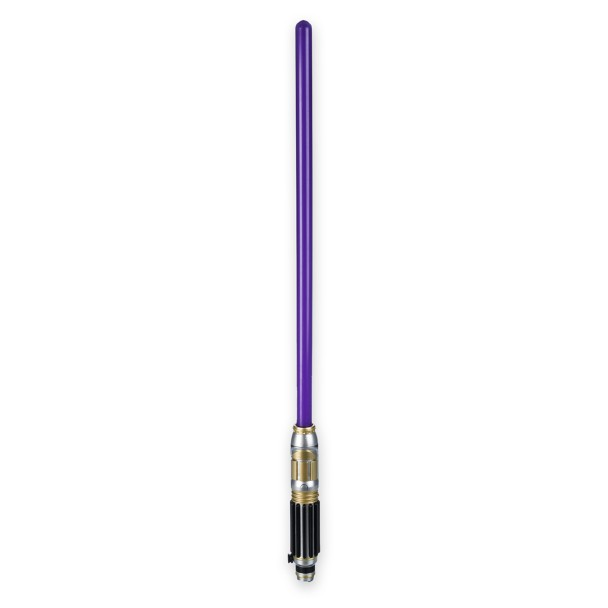lightsaber: (277, 0, 370, 581)
